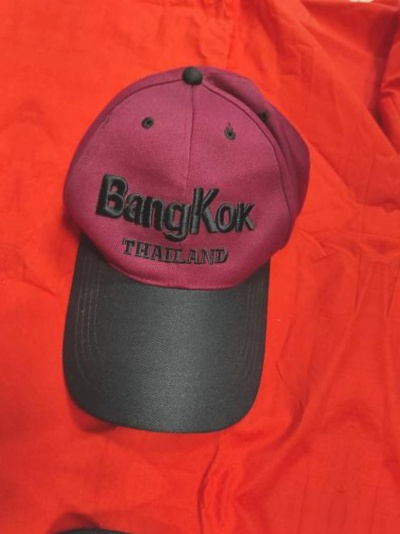Hat: (0, 14, 362, 468), (0, 0, 36, 413), (0, 496, 280, 534), (395, 83, 400, 534)
